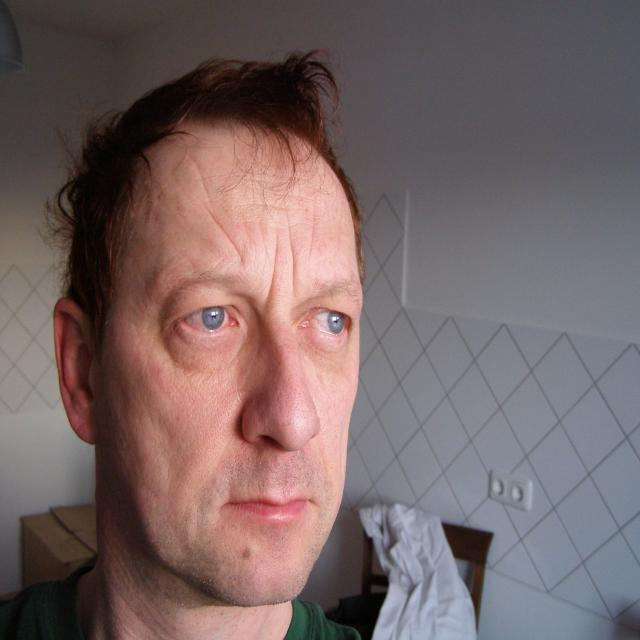Eyebags: (166, 329, 241, 371), (297, 330, 349, 368)
